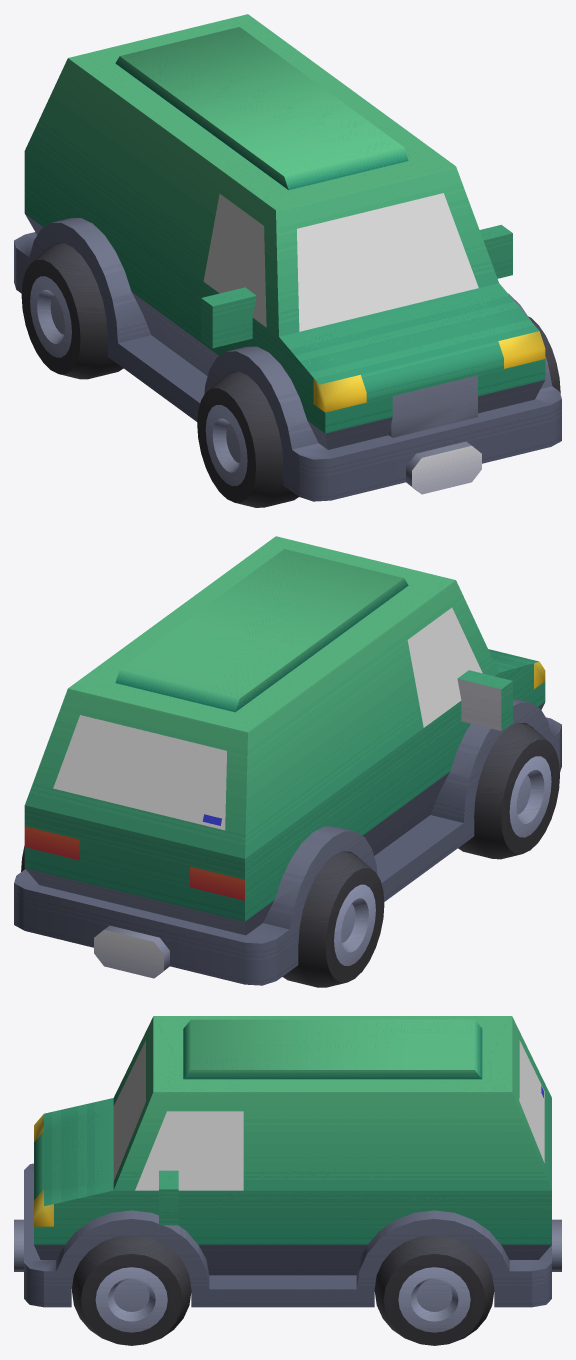
The model's file is vanFamilyGreen.glb.
The picture shows the model from 3 angles, top to bottom: view 1: azimuth 30°, elevation 25°; view 2: azimuth 150°, elevation 25°; view 3: azimuth 270°, elevation 25°; orthographic projection. The views are drawn at different scales.
Visible parts, largest first — view 1: body, bodyFrontWindow, wheel-front-right, wheel-rear-right, bodyRightWindow; view 2: body, bodyRearWindow, wheel-rear-right, wheel-front-right, bodyRightWindow; view 3: body, wheel-rear-left, wheel-front-left, bodyLeftWindow, bodyFrontWindow, bodyRearWindow.
Boxes of the visible parts, box(x1,y1,x2,y2) form: body: box(14, 14, 561, 501); bodyFrontWindow: box(297, 193, 478, 331); wheel-front-right: box(197, 371, 298, 507); wheel-rear-right: box(21, 243, 123, 379); bodyRightWindow: box(203, 194, 266, 327); body: box(14, 536, 561, 985); bodyRearWindow: box(53, 715, 226, 830); wheel-rear-right: box(282, 851, 384, 987); wheel-front-right: box(458, 723, 559, 859); bodyRightWindow: box(407, 607, 482, 727); body: box(14, 1016, 561, 1307); wheel-rear-left: box(374, 1235, 494, 1345); wheel-front-left: box(72, 1235, 191, 1345); bodyLeftWindow: box(135, 1111, 243, 1190); bodyFrontWindow: box(113, 1040, 145, 1181); bodyRearWindow: box(519, 1040, 544, 1162).
Size of the model in its own units: 1.52 by 1.36 by 2.75.
Materials: 4 (2 with a texture image).
